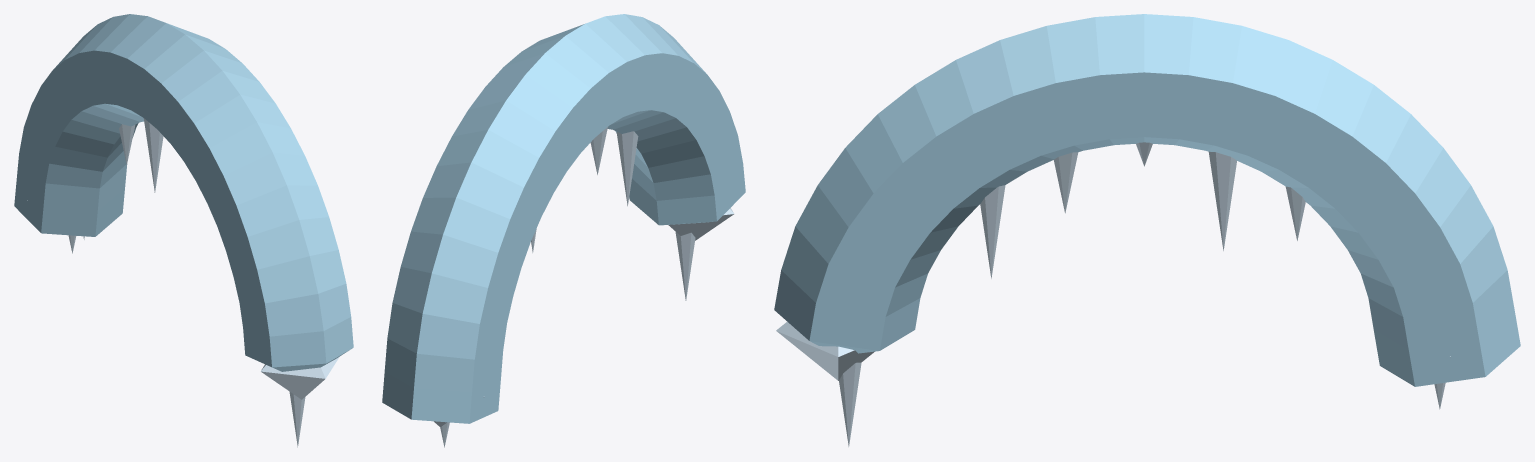
File: IcicleArch.glb
3 views of the same model, side by side, from view 1: azimuth 30°, elevation 25°; view 2: azimuth 150°, elevation 25°; view 3: azimuth 270°, elevation 25° (orthographic). The views are drawn at different scales.
Visible parts, largest first — view 1: IcicleArch; view 2: IcicleArch; view 3: IcicleArch.
Boxes of the visible parts, box(x1,y1,x2,y2) form: IcicleArch: box(14, 14, 353, 447); IcicleArch: box(382, 14, 745, 447); IcicleArch: box(774, 14, 1520, 446).
Size of the model in its own units: 0.9 by 3.44 by 5.37.
1 material, 1 textured.
